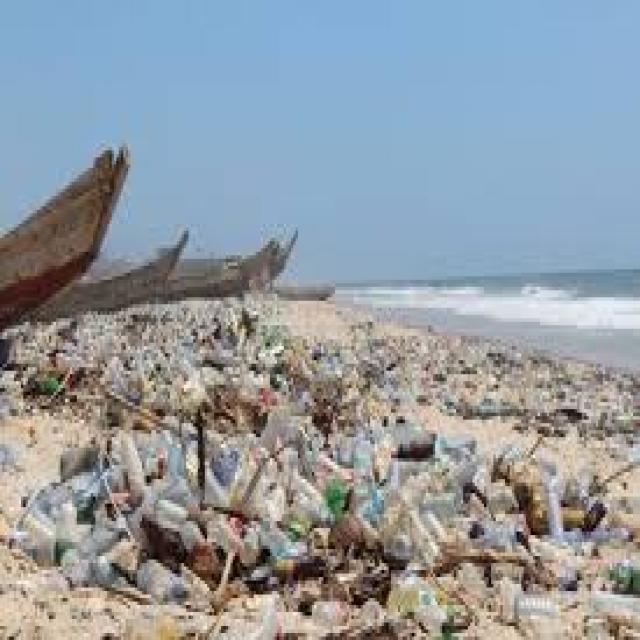heap: (114, 346, 601, 591)
